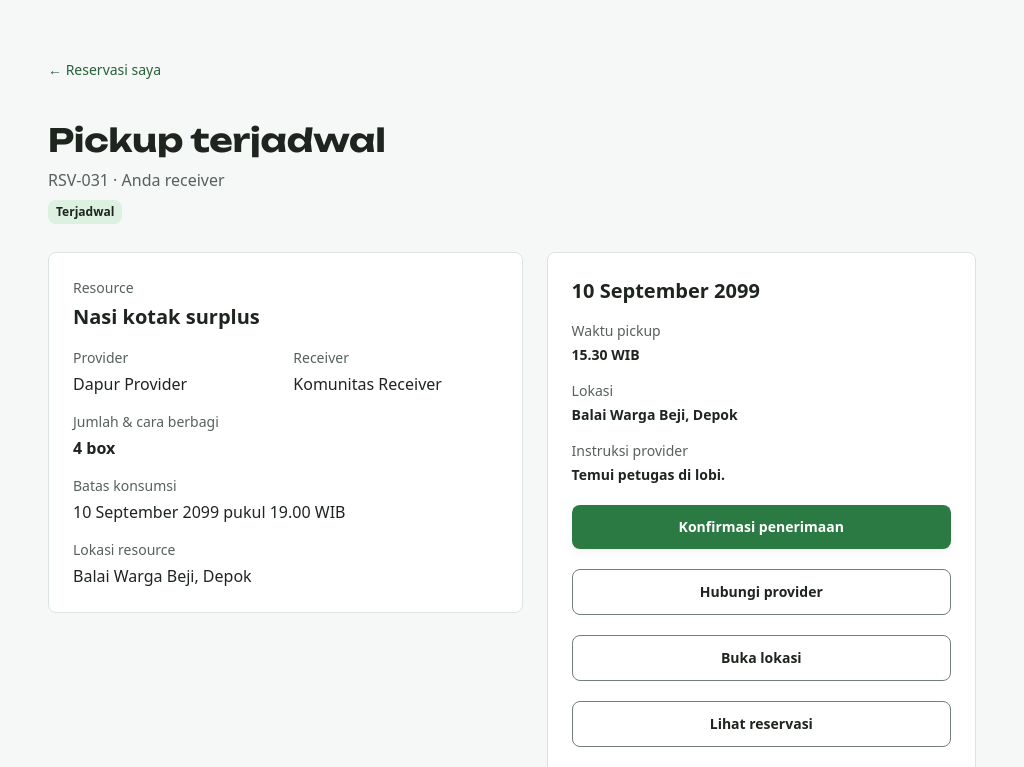
Scenario: lets only the receiver confirm all received quantity for LISTING_CLAIM
The width and height of the screenshot is (1024, 767).
Click the button "Konfirmasi penerimaan" at {"x": 761, "y": 527}, box [572,505,951,549]
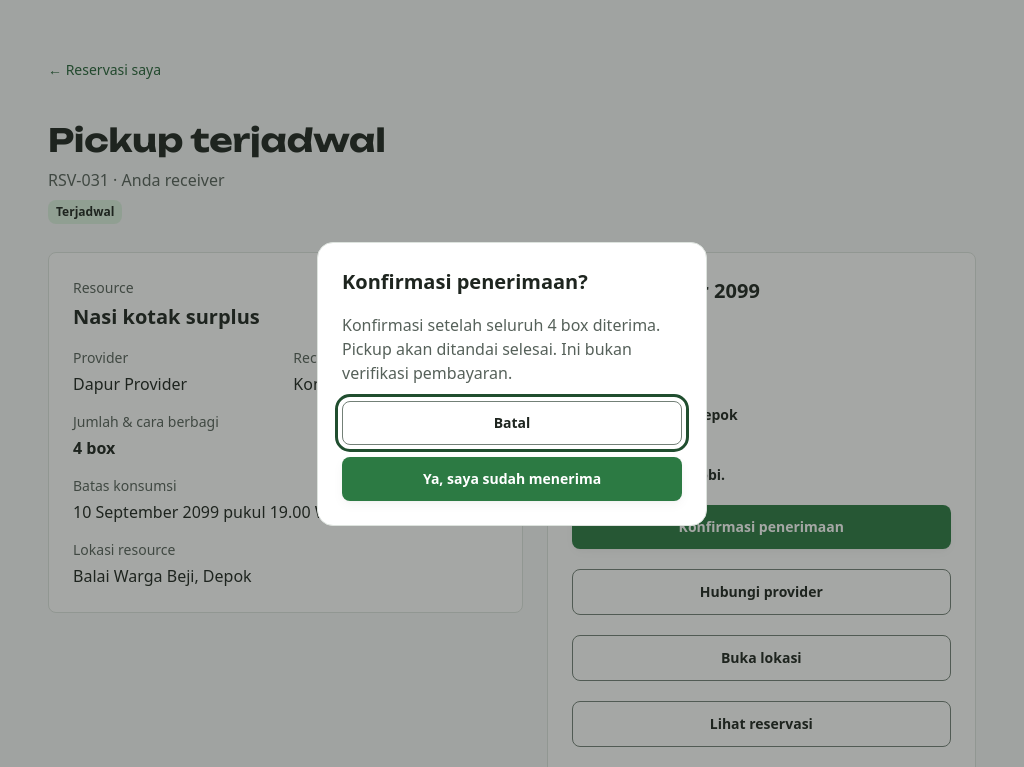
Result: the dialog shows "seluruh 4 box diterima" at [317,242,707,526]
Result: the dialog shows "bukan verifikasi pembayaran" at [342,314,660,384]
Click the button "Ya, saya sudah menerima" at {"x": 512, "y": 479}, box [342,457,682,501]
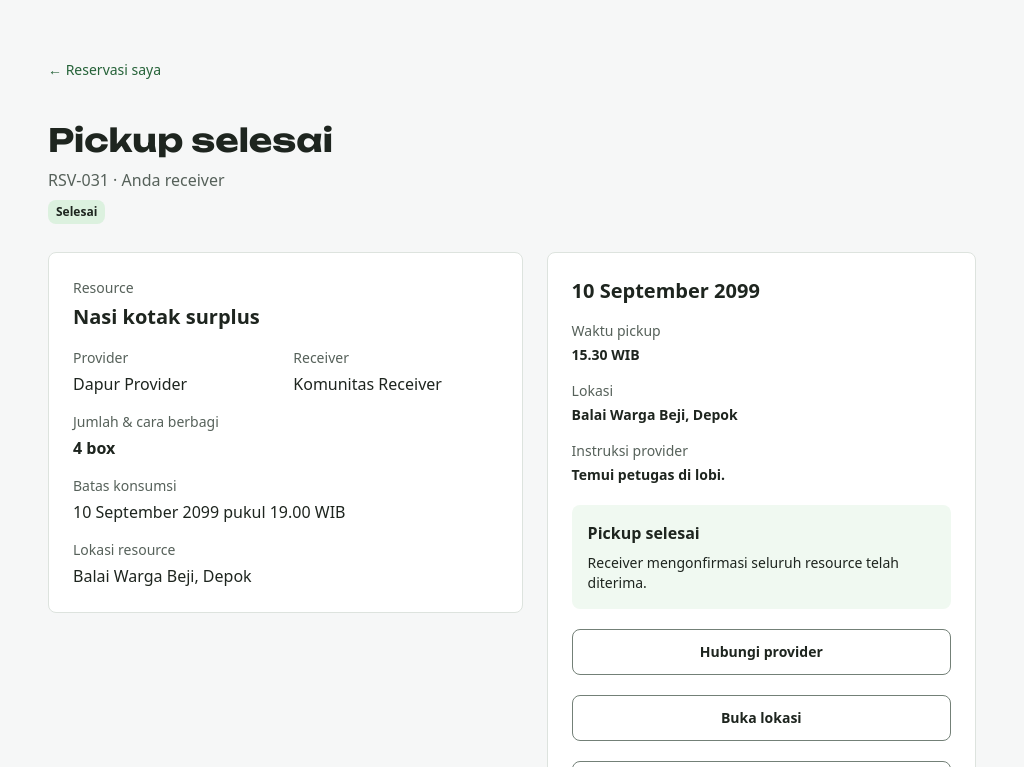
Result: the text "Pickup selesai" is shown at [48,120,333,160]
Result: the text "Receiver mengonfirmasi seluruh resource telah diterima." is shown at [588,553,935,593]
Result: the button "Konfirmasi penerimaan" no longer shows "Konfirmasi penerimaan"
